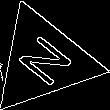N_SE: (10, 29, 77, 93)
